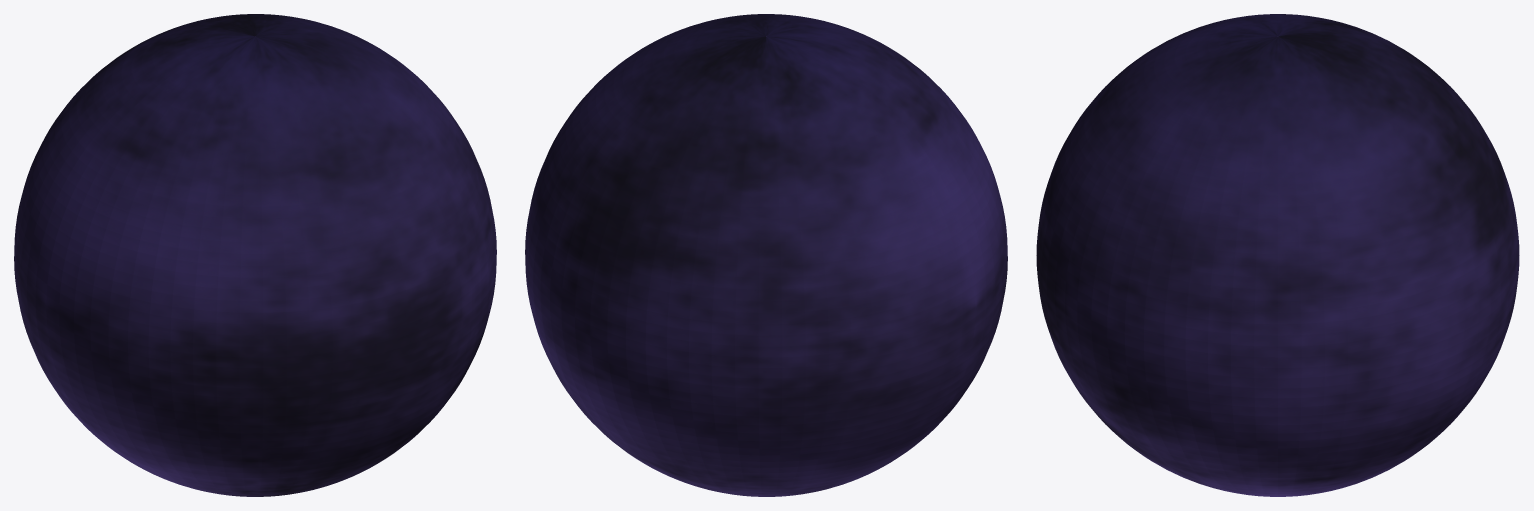
Rendered from skydome.obj.
3 renders of one model, left to right at view 1: azimuth 30°, elevation 25°; view 2: azimuth 150°, elevation 25°; view 3: azimuth 270°, elevation 25°, orthographic.
Visible parts, largest first — view 1: 球; view 2: 球; view 3: 球.
Part boxes in pixels (bbox=[...]): 球: bbox=[14, 14, 496, 496]; 球: bbox=[525, 14, 1007, 496]; 球: bbox=[1036, 14, 1519, 496].
Bounding box in the file's own units: 2 × 2 × 2.
Materials: 1 (1 with a texture image).
